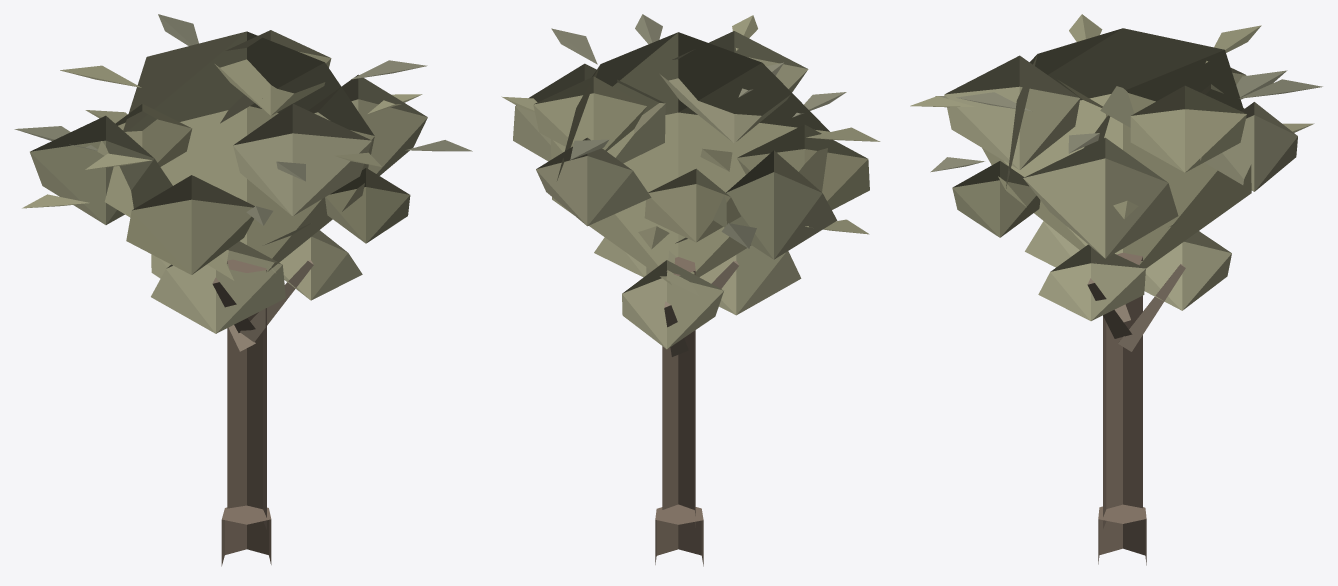
File: shu.paotong@subadult__winter.glb
3 views of the same model, side by side, from view 1: azimuth 30°, elevation 25°; view 2: azimuth 150°, elevation 25°; view 3: azimuth 270°, elevation 25° (orthographic).
Visible parts, largest first — view 1: shu.paotong@subadult__winter; view 2: shu.paotong@subadult__winter; view 3: shu.paotong@subadult__winter.
Boxes of the visible parts, x1=… form: shu.paotong@subadult__winter: x1=14, y1=14, x2=472, y2=566; shu.paotong@subadult__winter: x1=501, y1=14, x2=880, y2=566; shu.paotong@subadult__winter: x1=910, y1=14, x2=1322, y2=565.
Size of the model in its own units: 7.14 by 9.11 by 6.54.
